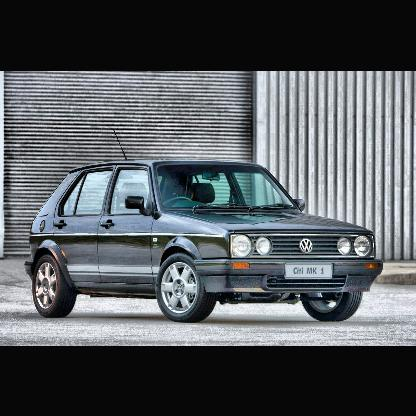Volkswagen Golf Hatchback 1991: (27, 157, 384, 325)
